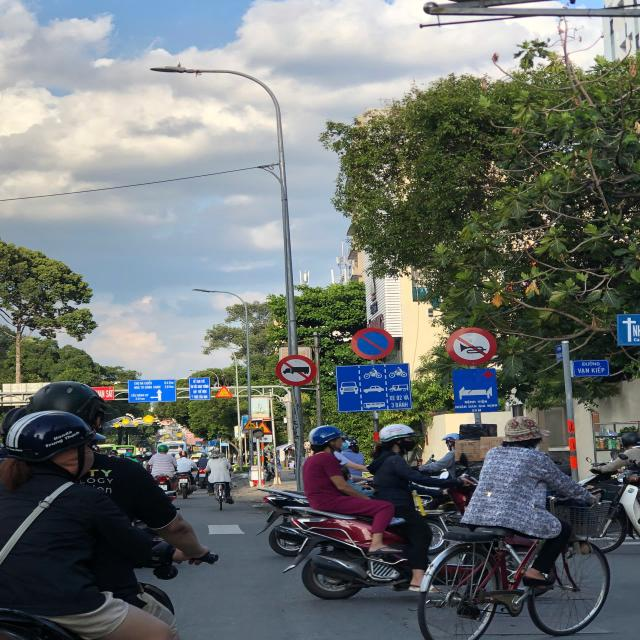Bien bao cam do xe: (346, 324, 398, 362)
Bien bao cam xe so-mi ro-mooc: (273, 352, 322, 388)
